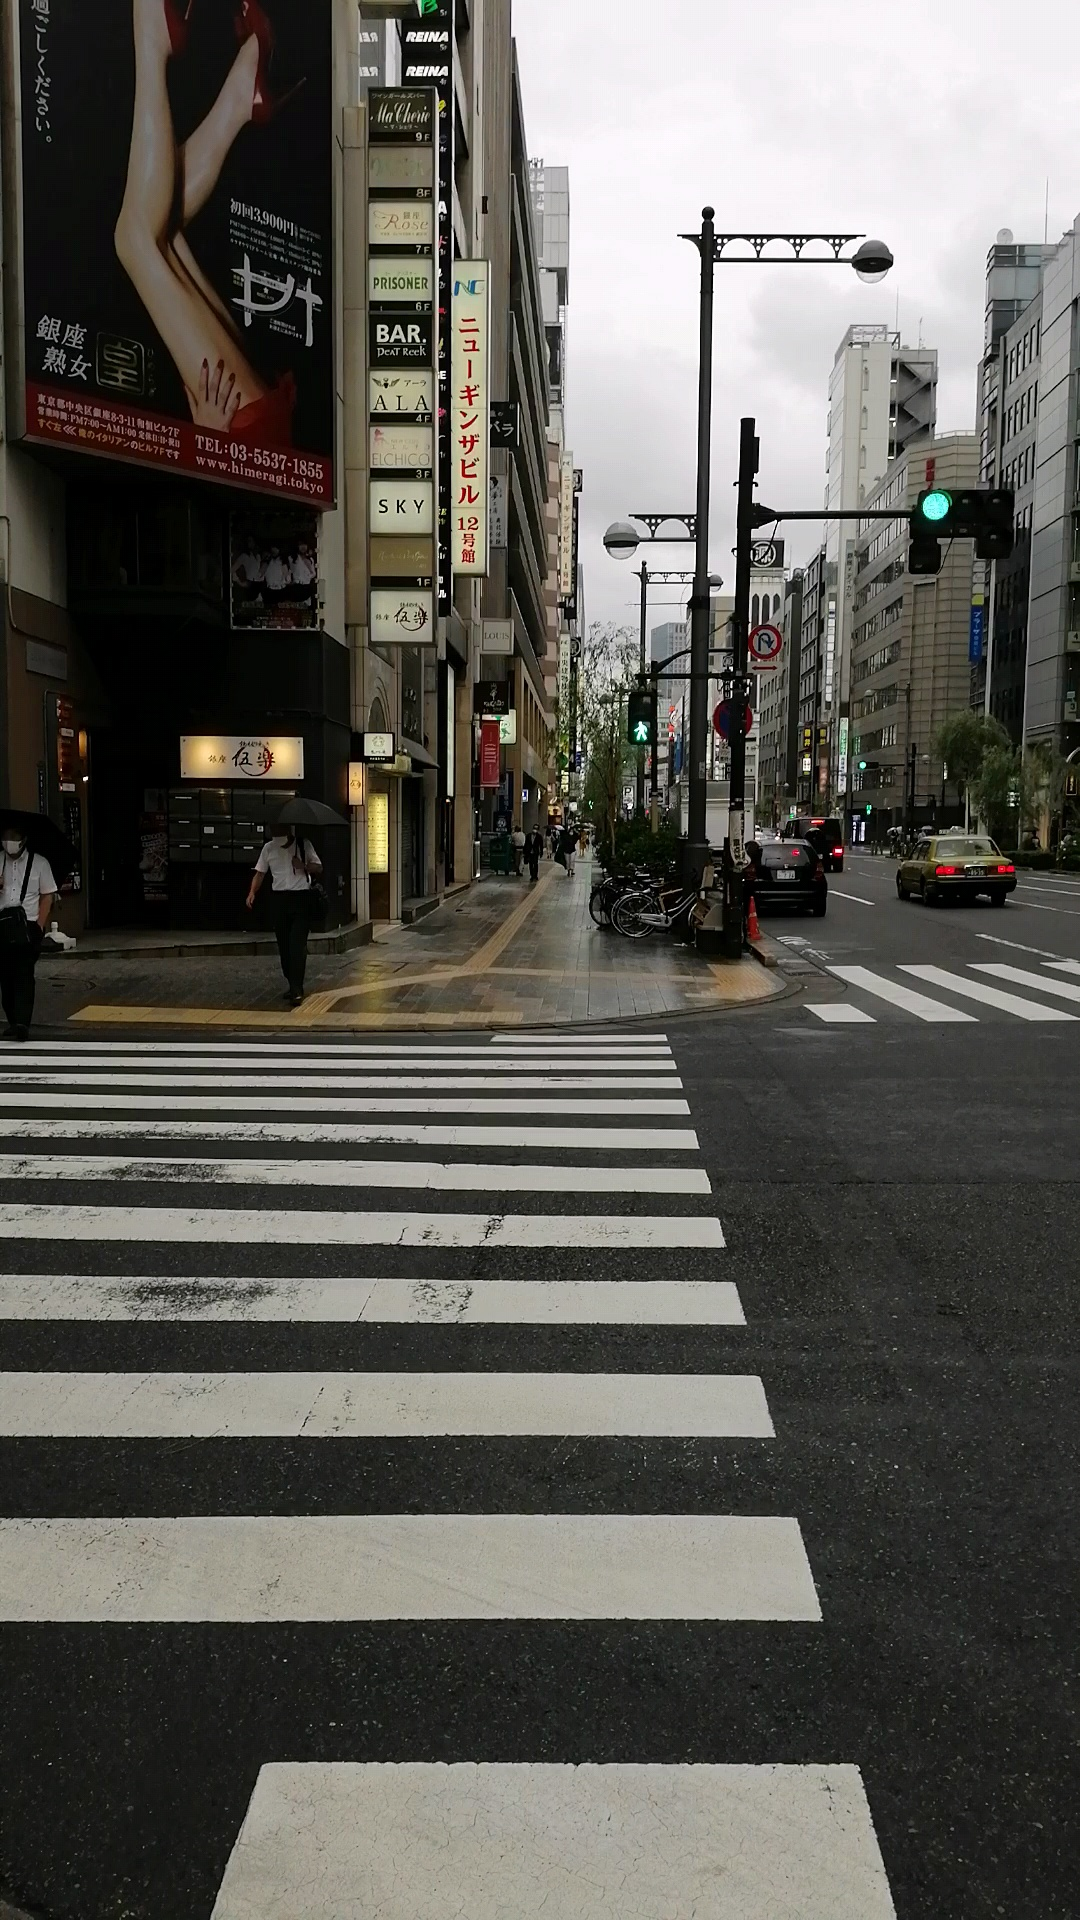green: (626, 691, 654, 742)
